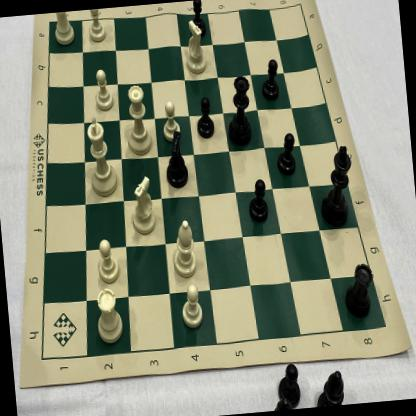bishop: (170, 216, 199, 280)
king: (314, 141, 358, 232), (81, 112, 121, 198)
knight: (127, 171, 160, 236), (160, 129, 192, 190), (182, 17, 209, 77)
pawn: (176, 281, 206, 331), (93, 236, 122, 285), (244, 175, 272, 224), (273, 130, 300, 178), (258, 56, 283, 105), (90, 66, 116, 113), (192, 95, 218, 141), (160, 98, 182, 142), (85, 8, 108, 44), (189, 0, 209, 38)
queen: (222, 72, 256, 150), (122, 79, 154, 159)
rook: (340, 254, 378, 324), (90, 285, 128, 347), (52, 11, 78, 49)
